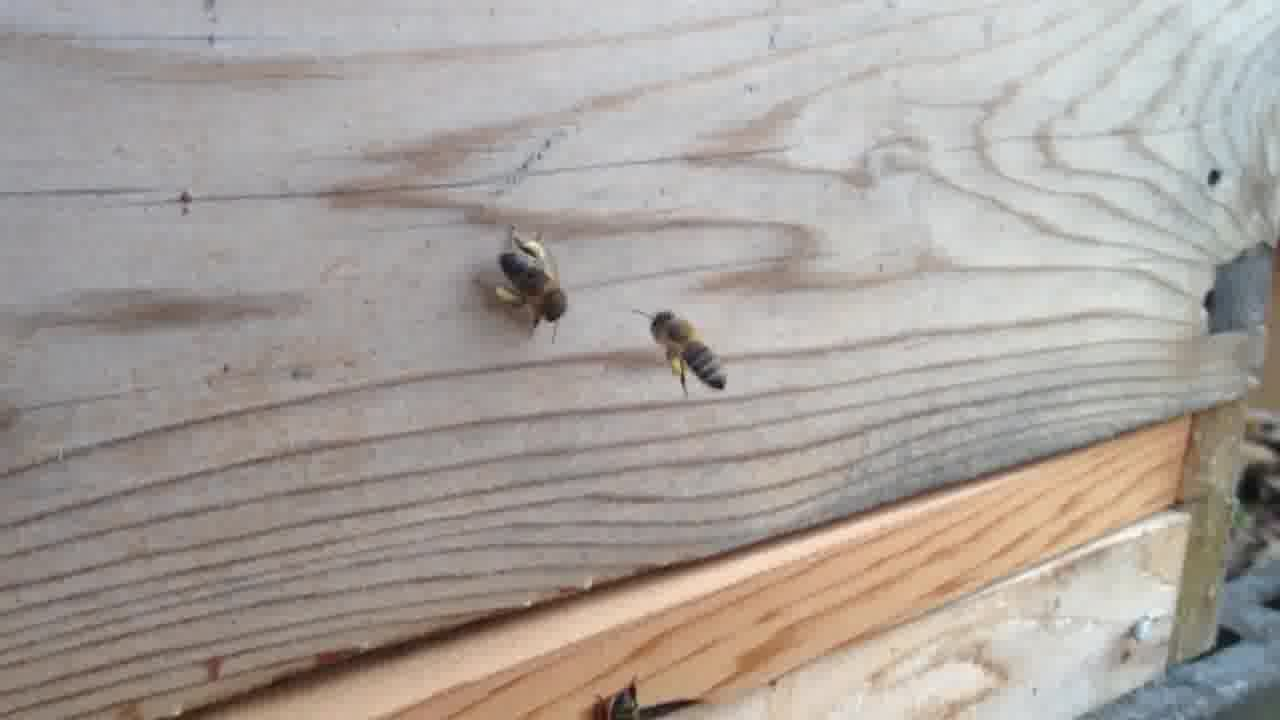pollen: (480, 219, 579, 336), (641, 309, 735, 402)
